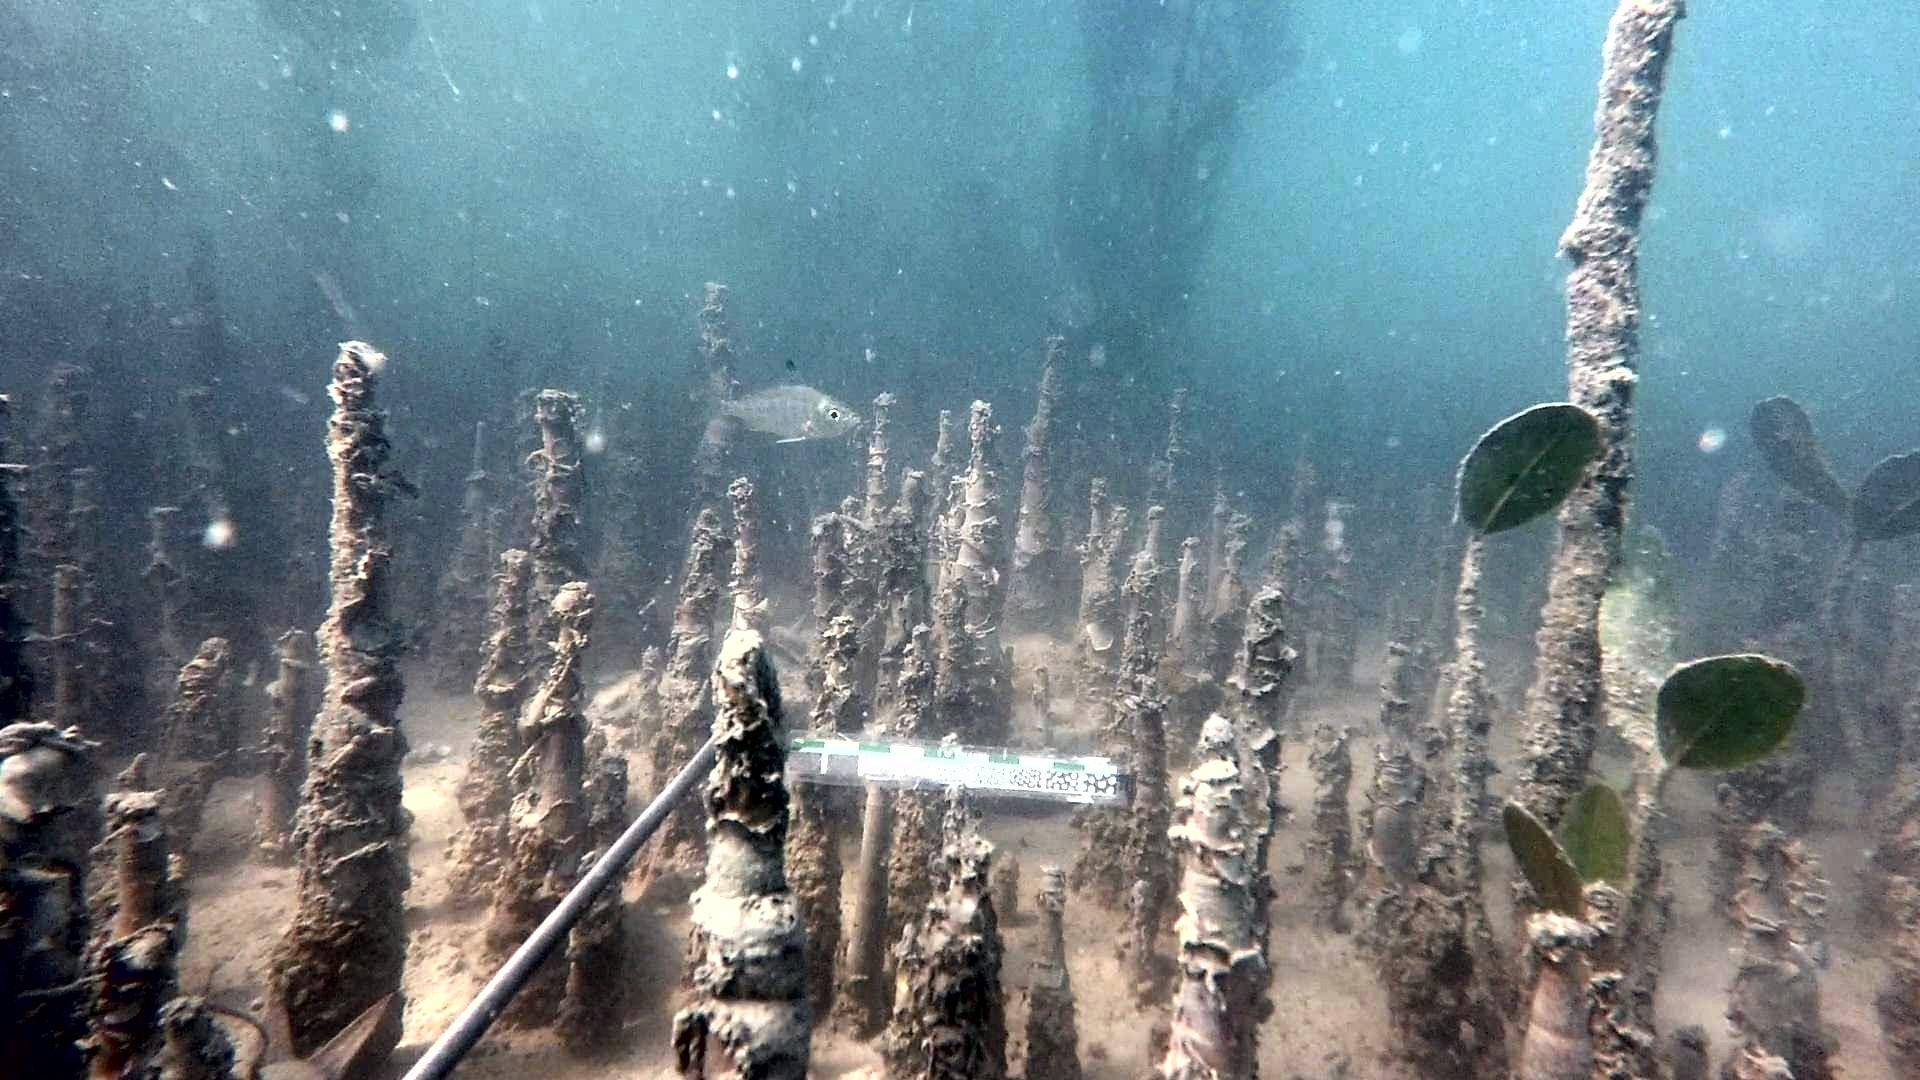gerres: (695, 357, 862, 444)
